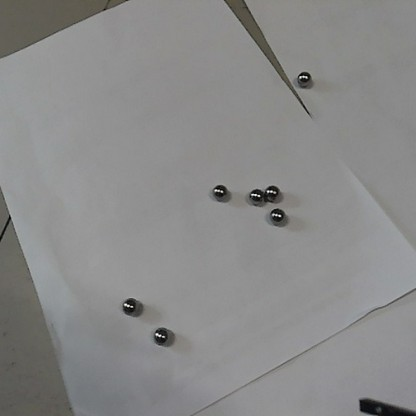ironball: (119, 296, 141, 319), (209, 181, 230, 203), (262, 180, 281, 203), (268, 205, 287, 226), (153, 325, 172, 346), (295, 66, 314, 86), (247, 186, 264, 202)
